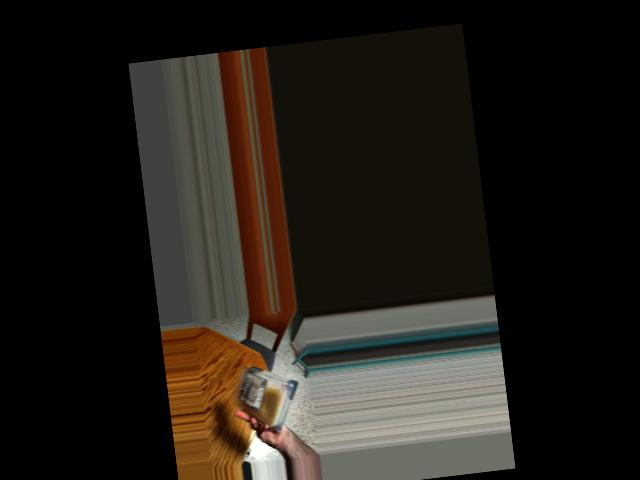cheese: (234, 364, 291, 430)
